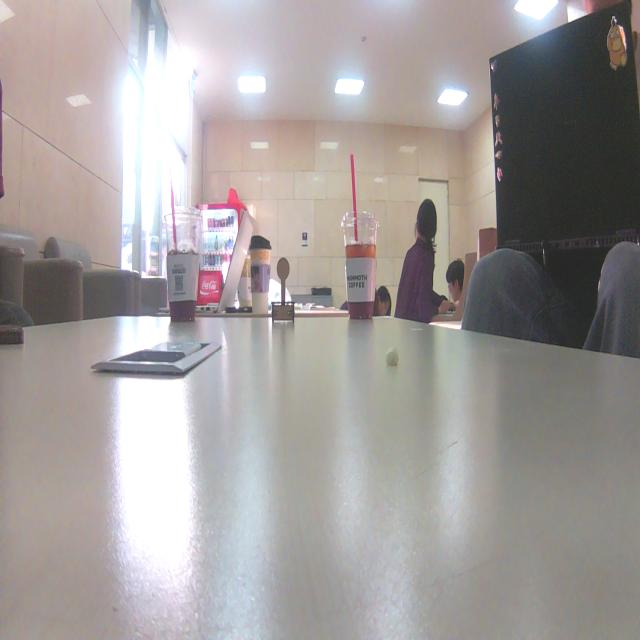target: (271, 256, 295, 324)
